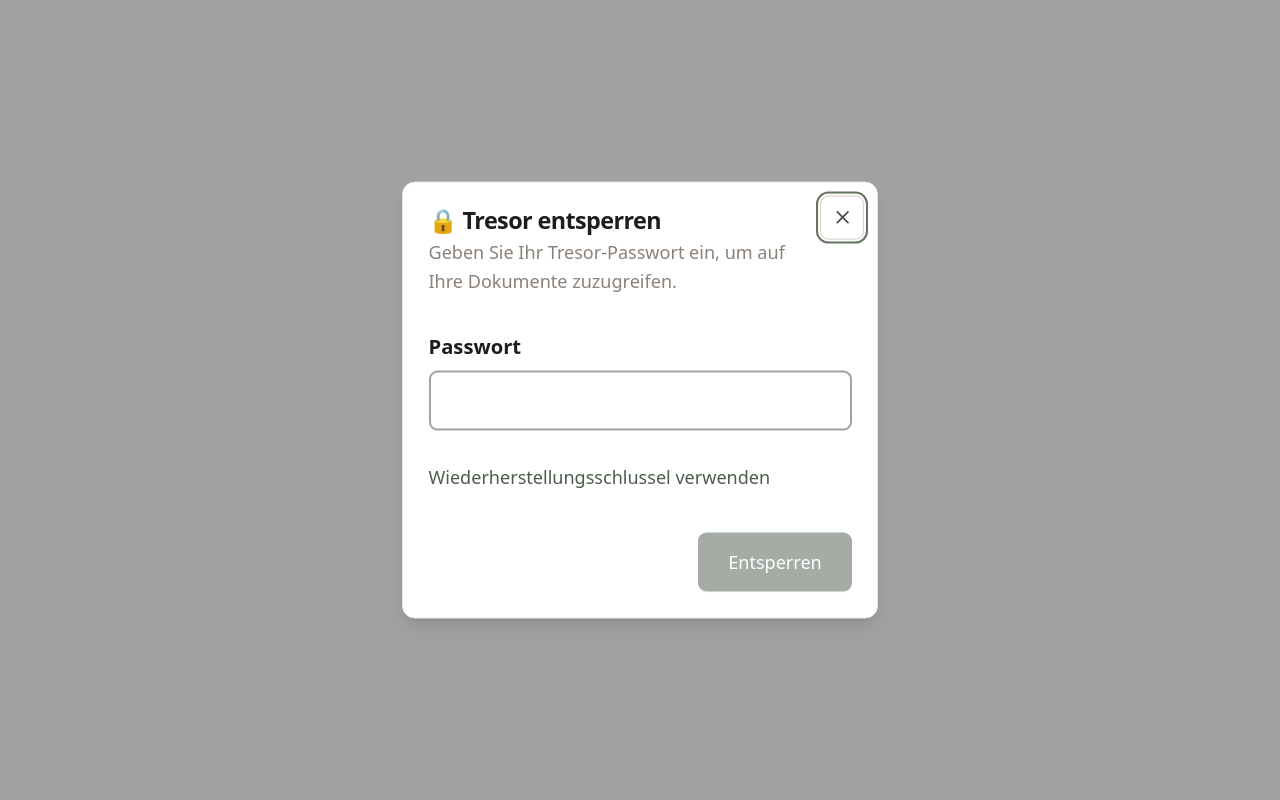
Test case: VaultUnlockModal › clicking "Passwort verwenden" switches back
Step 1. Click the button "Wiederherstellungsschlussel verwenden" → (599, 477), box [428, 447, 770, 507]
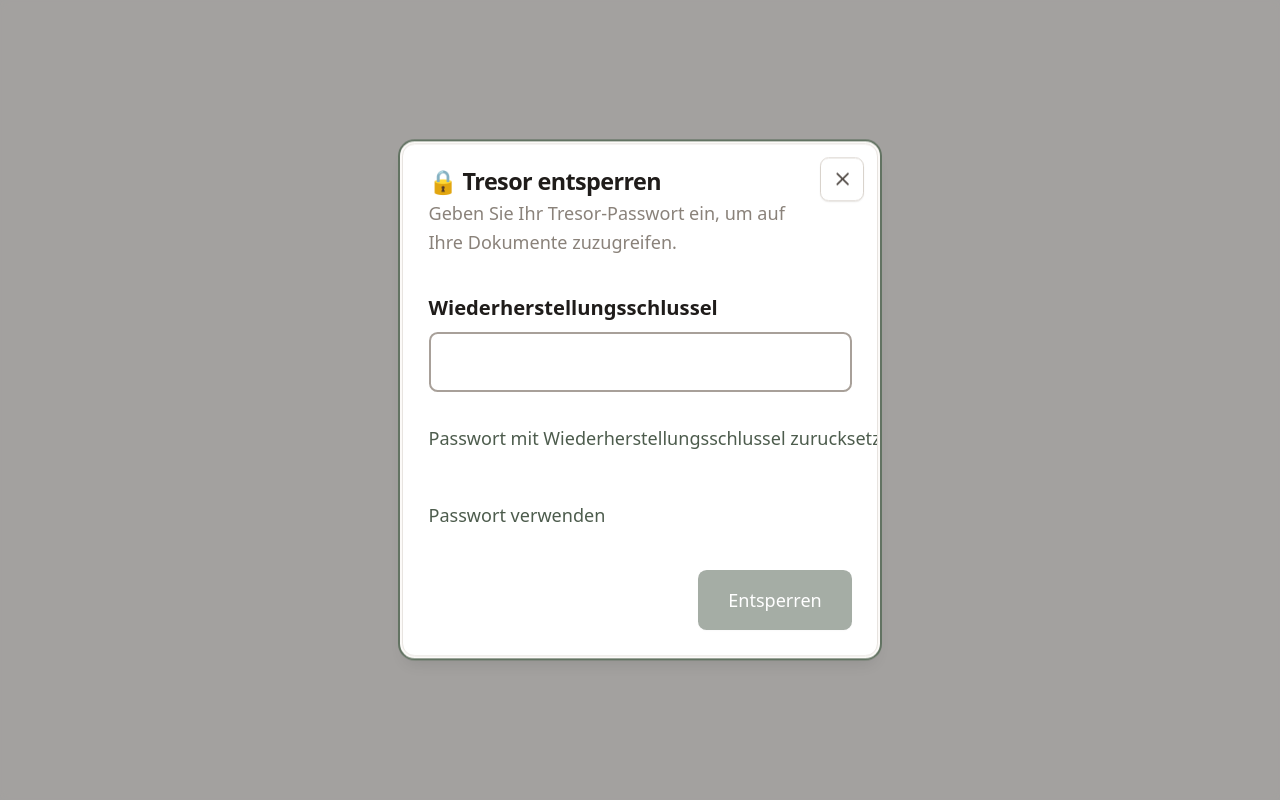
Step 2. Click the button "Passwort verwenden" → (517, 515), box [428, 486, 605, 545]
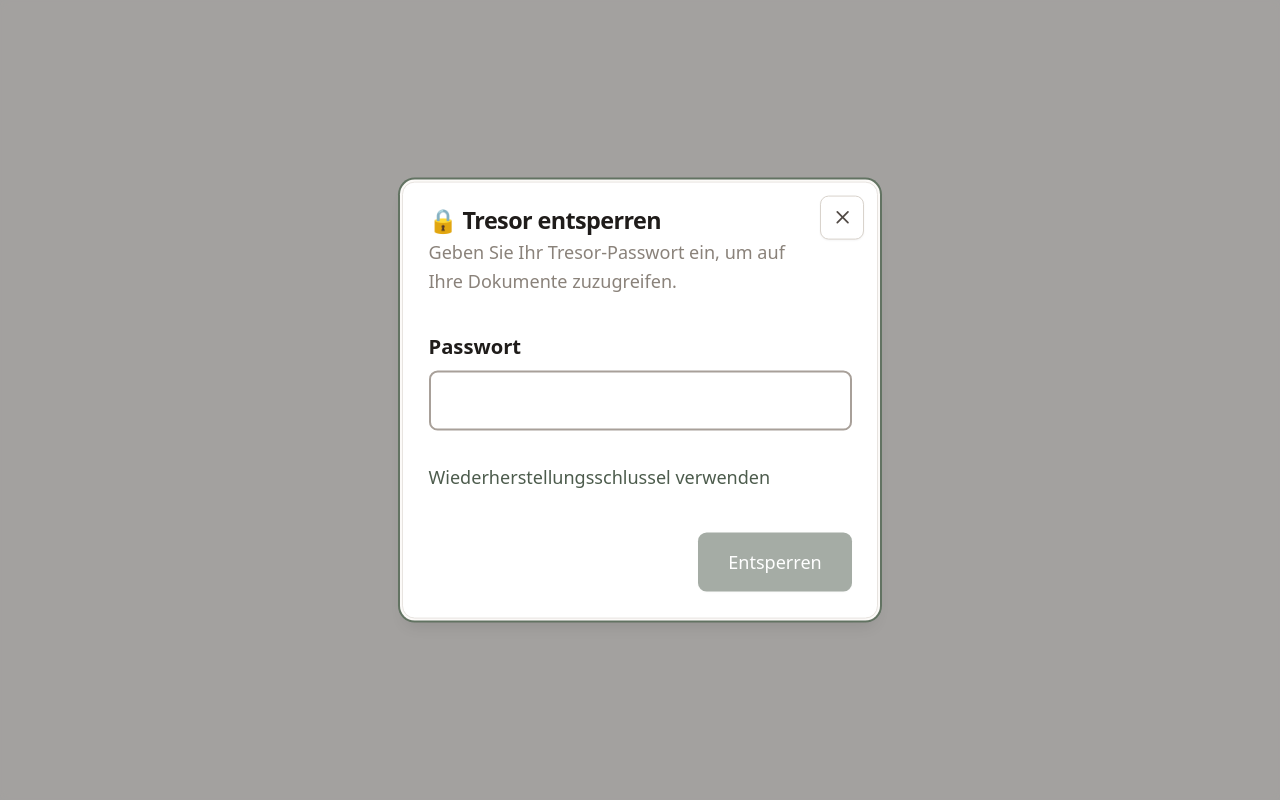
Result: the password field labelled "Passwort" is shown at [428, 371, 852, 430]
